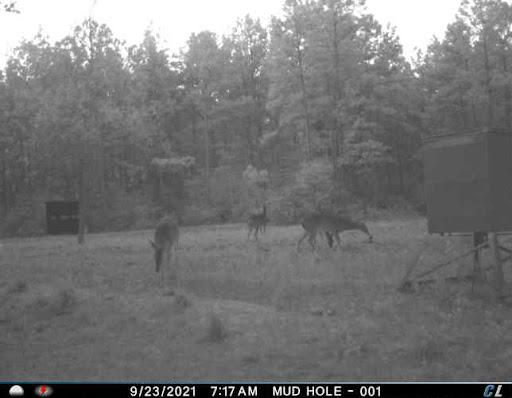Deer: (296, 210, 380, 260), (143, 207, 187, 287), (240, 199, 278, 252)
